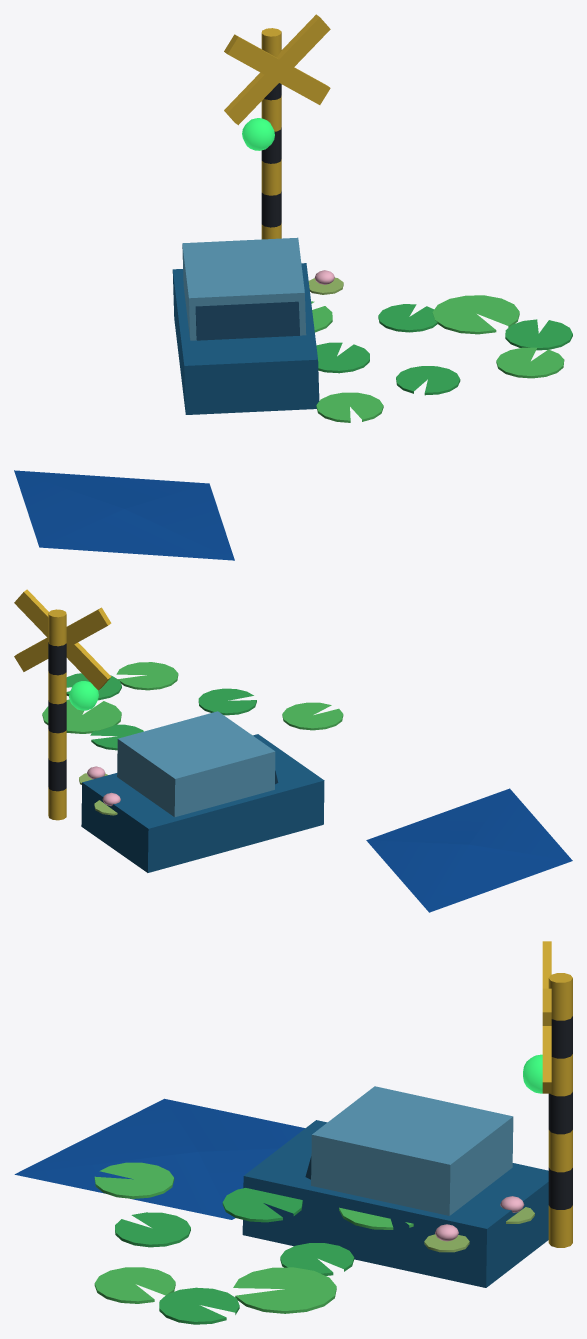
Rendered from detail.glb.
3 views of the same model, one above another, from view 1: azimuth 30°, elevation 25°; view 2: azimuth 150°, elevation 25°; view 3: azimuth 270°, elevation 25° (orthographic). The views are drawn at different scales.
Parts seen in each view (by area): view 1: detail; view 2: detail; view 3: detail.
Boxes of the visible parts, x1=… form: detail: x1=14, y1=14, x2=572, y2=560; detail: x1=14, y1=589, x2=572, y2=912; detail: x1=14, y1=941, x2=572, y2=1324.
Size of the model in its own units: 9.83 by 5.41 by 7.36.
